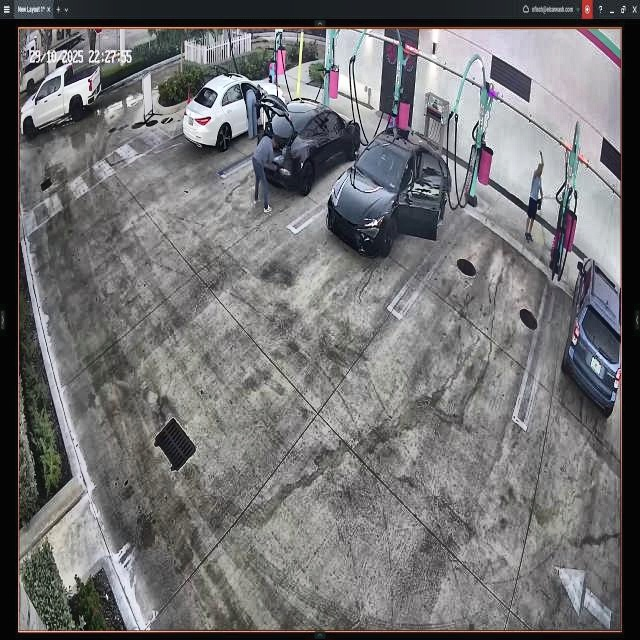Car: (329, 132, 451, 258), (258, 92, 358, 187), (184, 70, 285, 152)
